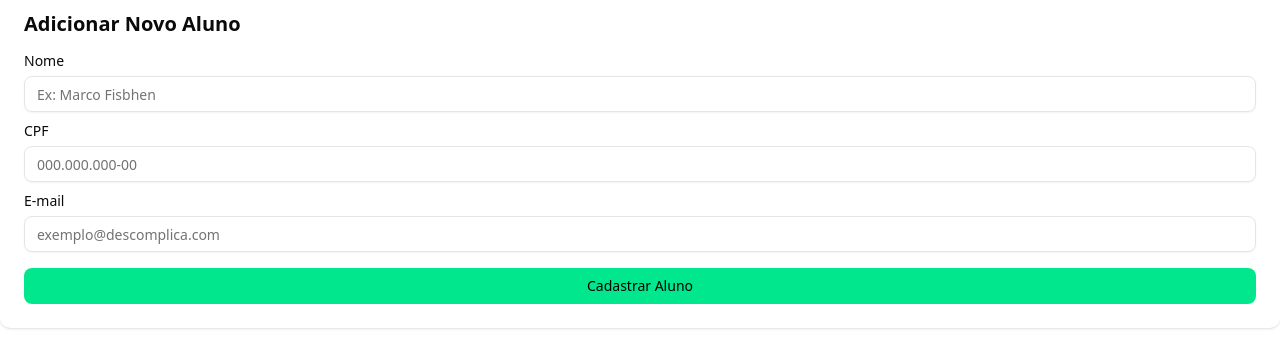
StudentForm › should format CPF on input
The image size is (1280, 346).
Type "11111111111" into the field labelled "CPF" at (640, 164), box top-left (24, 146), bottom-right (1256, 182)
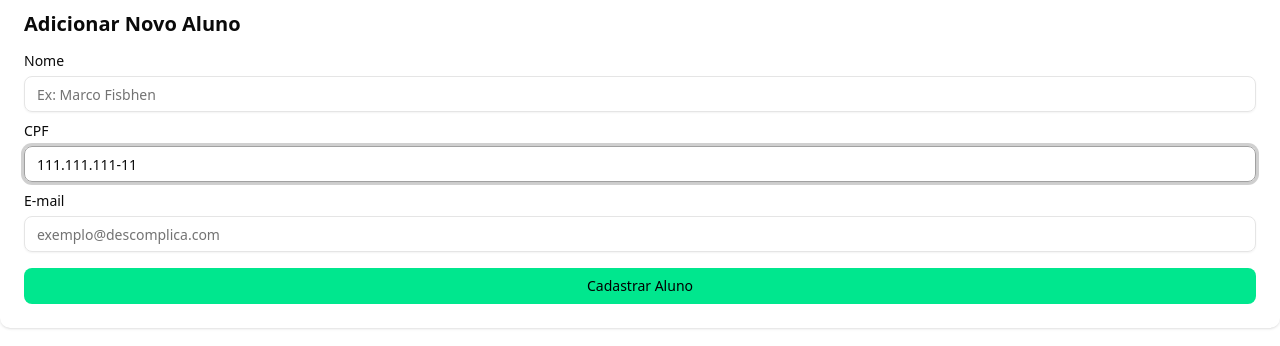
Now the field labelled "CPF" holds "111.111.111-11", box top-left (24, 146), bottom-right (1256, 182)
